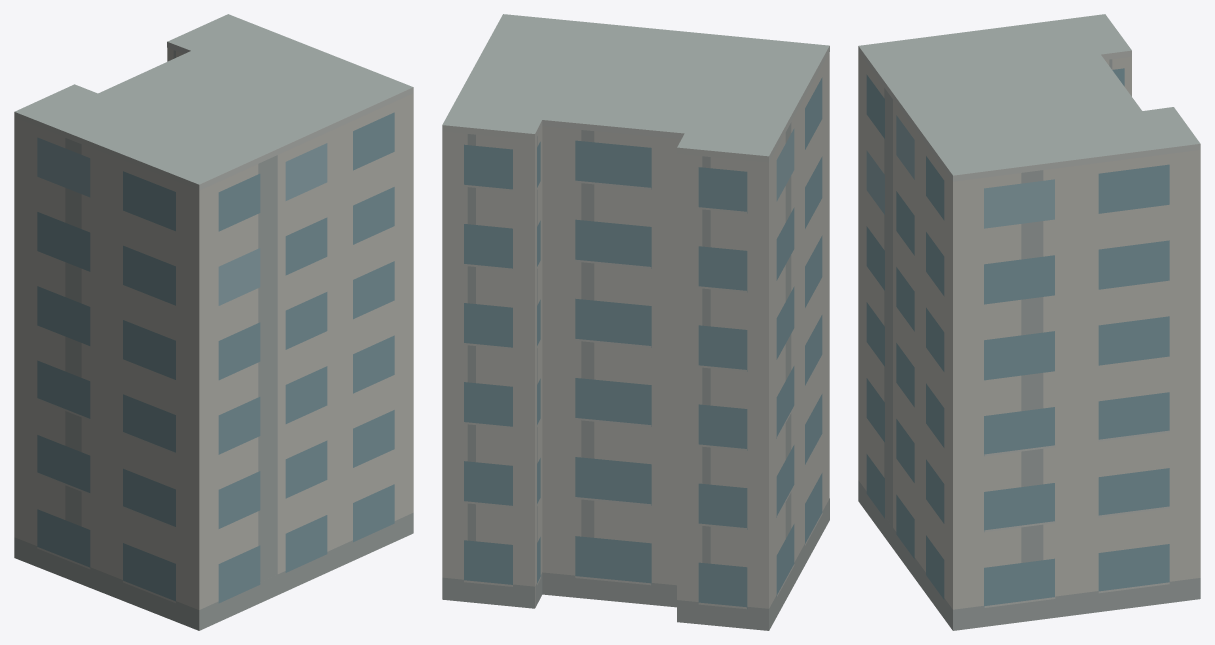
Rendered from survey-upis-32751578.glb.
The picture shows the model from 3 angles, left to right: view 1: azimuth 30°, elevation 25°; view 2: azimuth 150°, elevation 25°; view 3: azimuth 270°, elevation 25°; orthographic projection. The views are drawn at different scales.
Visible parts, largest first — view 1: survey-upis-32751578.tmp; view 2: survey-upis-32751578.tmp; view 3: survey-upis-32751578.tmp.
Part boxes in pixels (left/top/right/bottom): survey-upis-32751578.tmp: left=14, top=14, right=413, bottom=630; survey-upis-32751578.tmp: left=442, top=14, right=829, bottom=630; survey-upis-32751578.tmp: left=858, top=14, right=1200, bottom=630.
Size of the model in its own units: 13.94 by 18.3 by 12.48.
